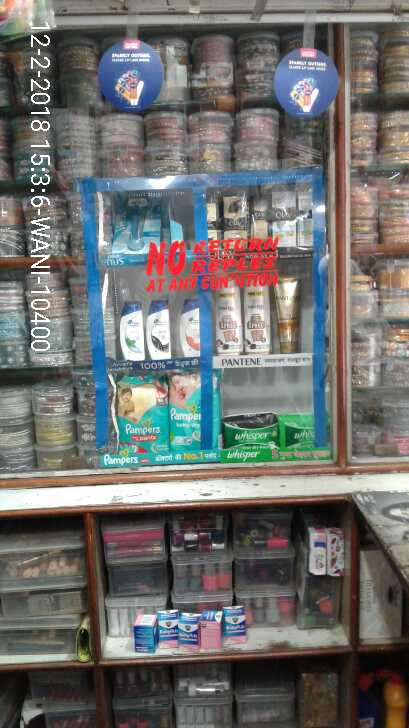venus: (114, 193, 157, 249)
